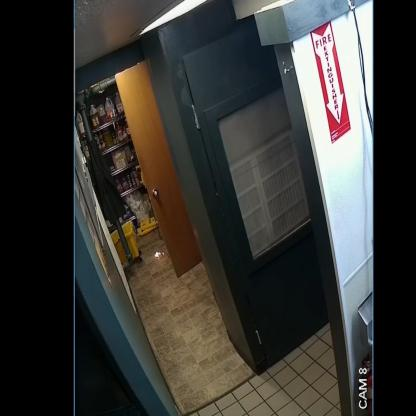fire: (154, 252, 164, 257)
